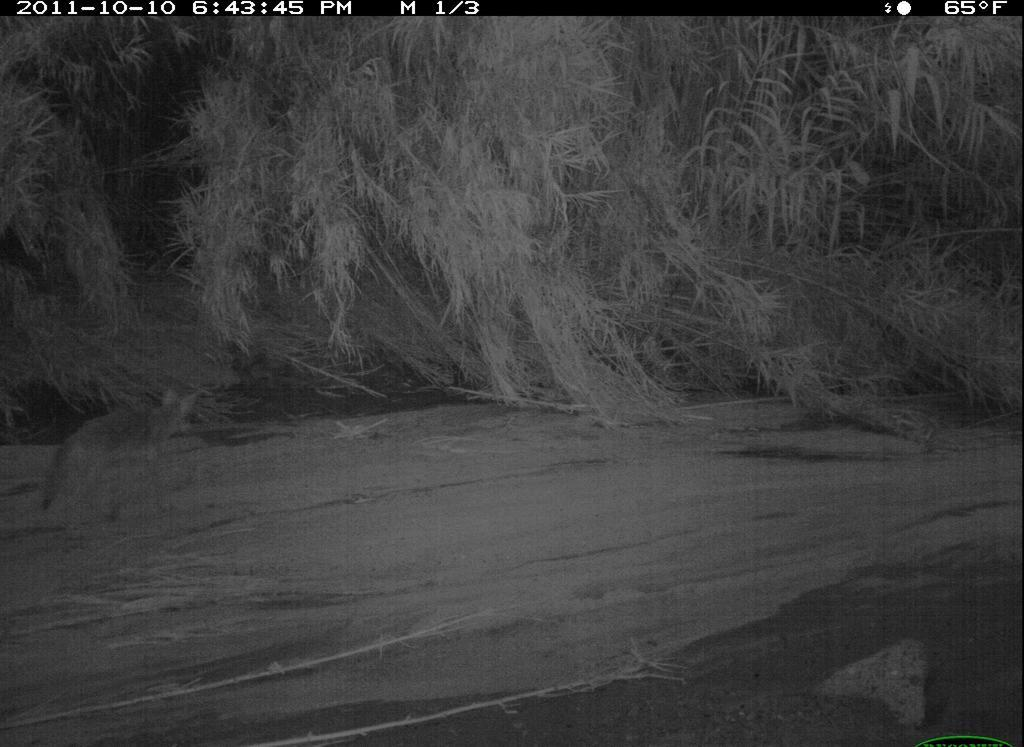coyote: (27, 379, 225, 543)
